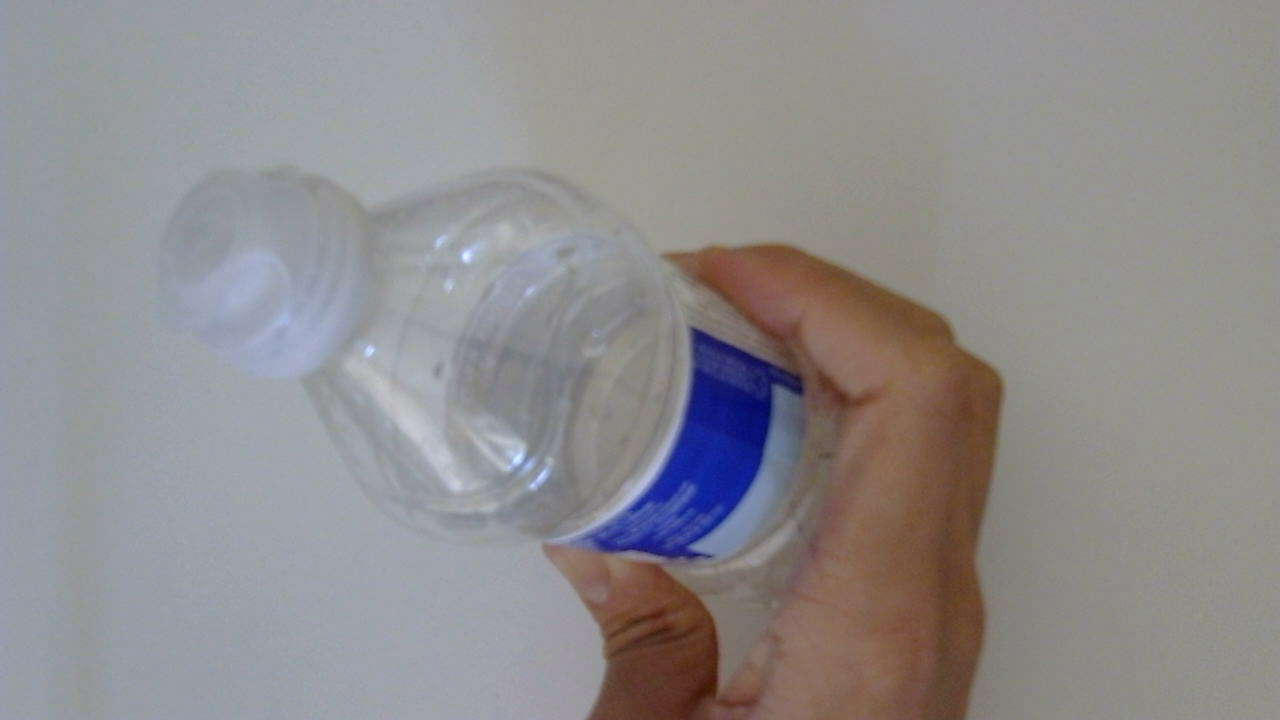Plastic Bottle: (160, 159, 865, 595)
